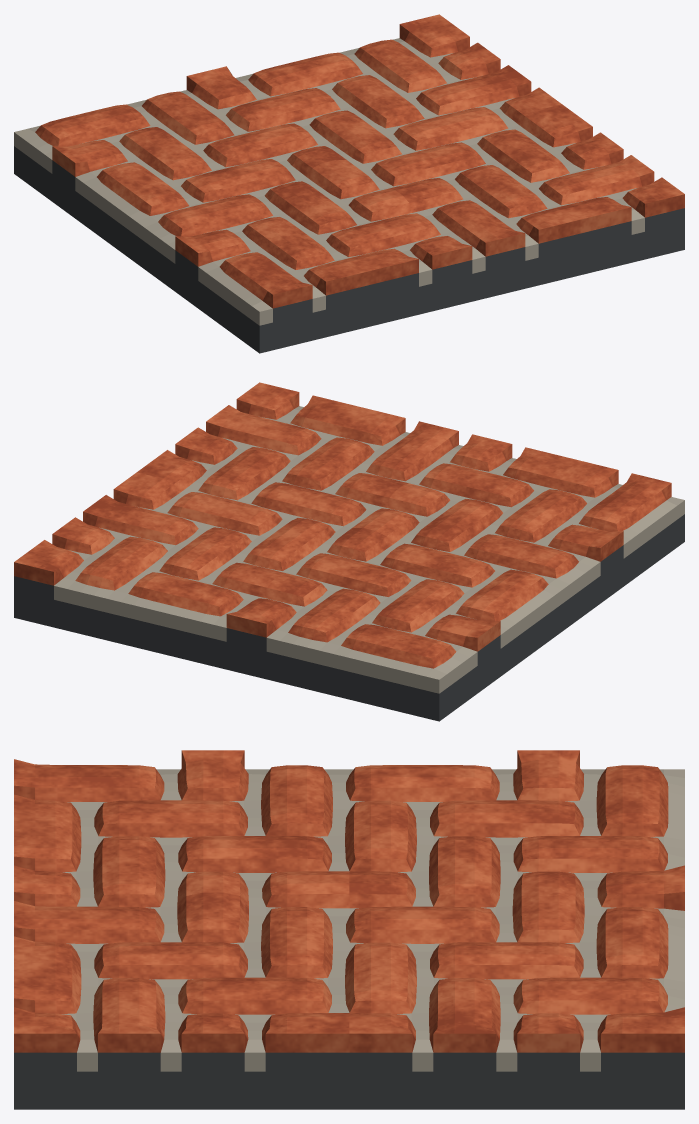
Rendered from floor_out_brick.glb.
3 renders of one model, top to bottom at view 1: azimuth 30°, elevation 25°; view 2: azimuth 150°, elevation 25°; view 3: azimuth 270°, elevation 25°, orthographic. The views are drawn at different scales.
Visible parts, largest first — view 1: town_floor_out_brick; view 2: town_floor_out_brick; view 3: town_floor_out_brick.
Boxes of the visible parts, bbox=[...] form: town_floor_out_brick: bbox=[14, 14, 684, 353]; town_floor_out_brick: bbox=[14, 382, 684, 721]; town_floor_out_brick: bbox=[14, 750, 684, 1109].
Size of the model in its own units: 1 by 0.125 by 1.
Materials: 3 (1 with a texture image).
